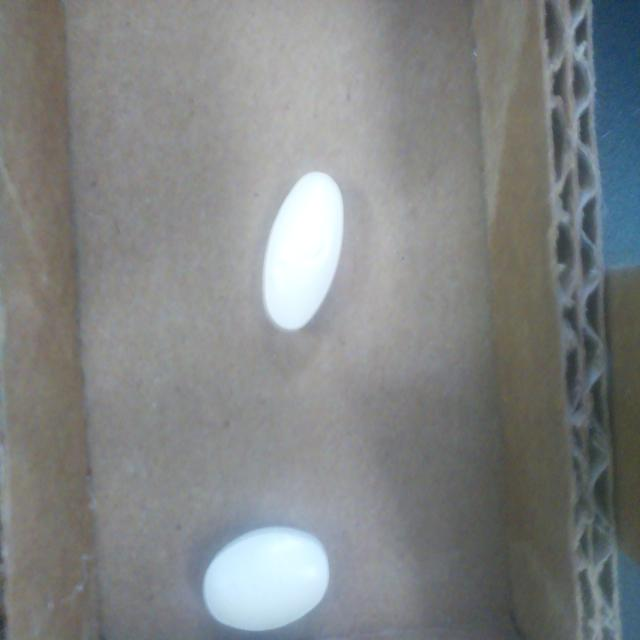pill: (203, 526, 330, 630), (262, 171, 344, 332)
